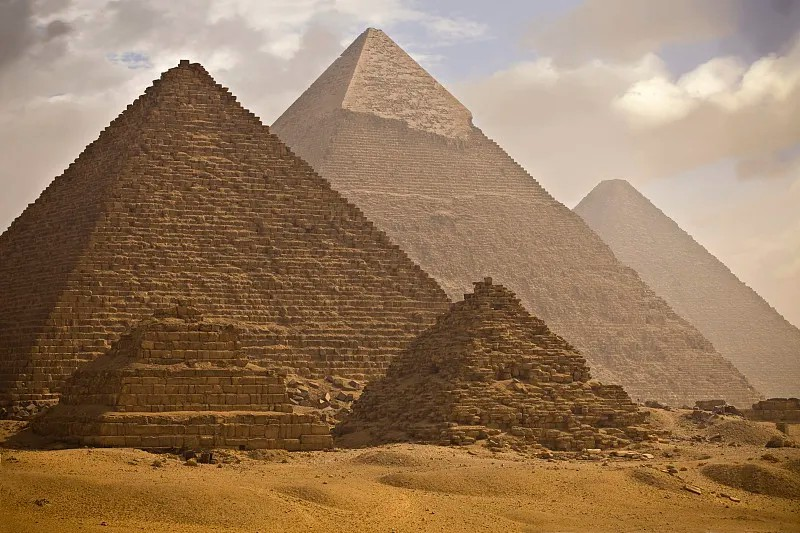Pyramid: (272, 28, 766, 407), (1, 59, 455, 406), (342, 279, 653, 450), (573, 180, 800, 399), (29, 309, 333, 451)
